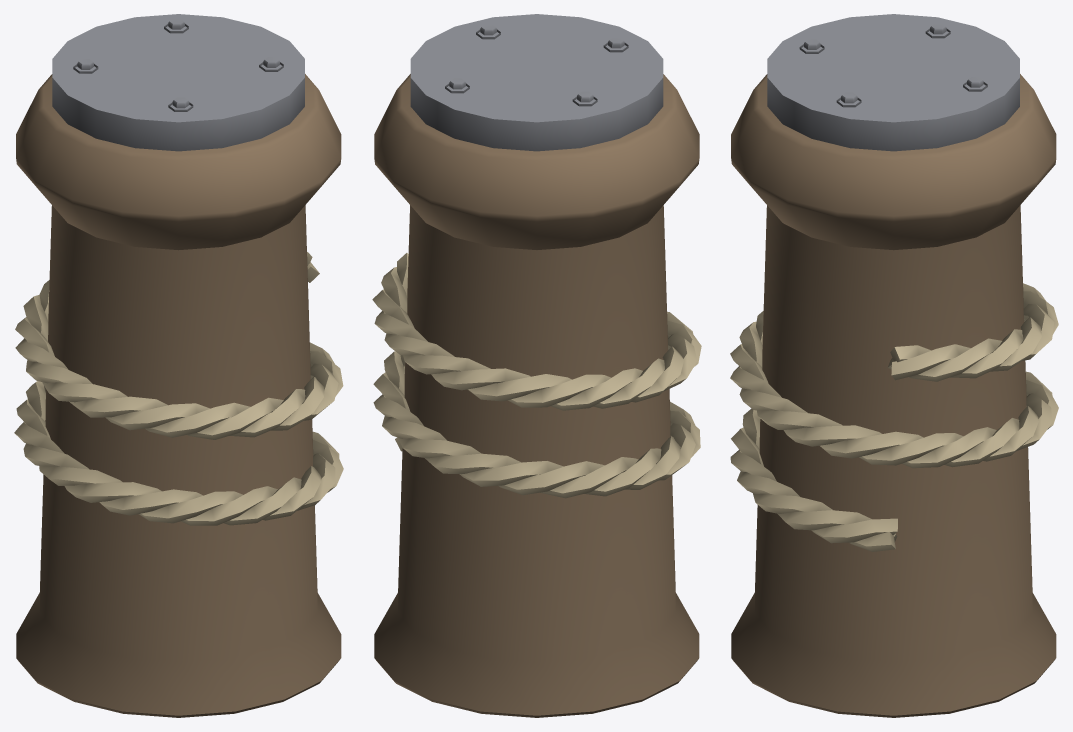
File: rig_mooring_post.glb
3 renders of one model, left to right at view 1: azimuth 30°, elevation 25°; view 2: azimuth 150°, elevation 25°; view 3: azimuth 270°, elevation 25°, orthographic.
Visible parts, largest first — view 1: rig_mooring_post; view 2: rig_mooring_post; view 3: rig_mooring_post.
Boxes of the visible parts, x1,y1,x2,y2 form: rig_mooring_post: [14, 14, 343, 717]; rig_mooring_post: [372, 14, 701, 717]; rig_mooring_post: [730, 14, 1058, 717].
Size of the model in its own units: 0.5154 by 1.01 by 0.5131.
